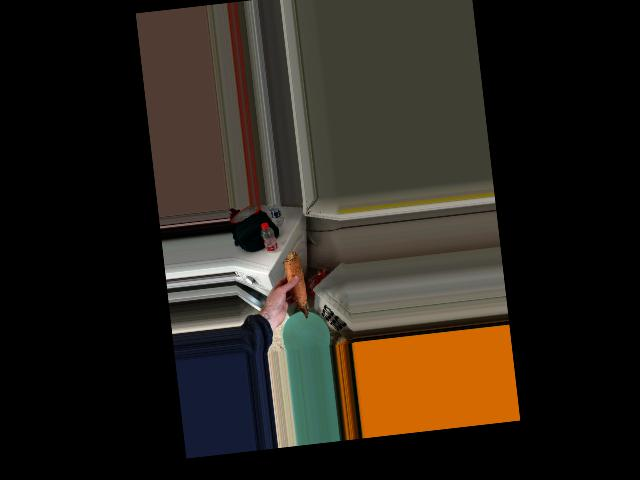sweet_potato: (282, 252, 314, 319)
